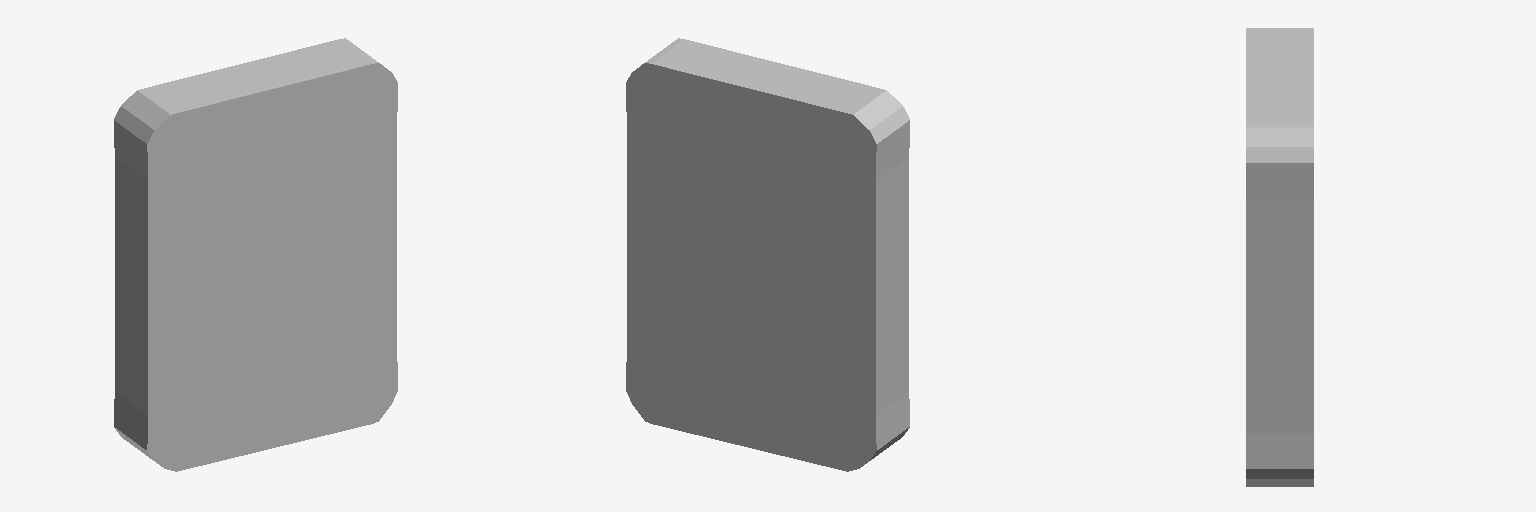
Rendered from weight_left_phy.obj.
3 views of the same model, side by side, from view 1: azimuth 30°, elevation 25°; view 2: azimuth 150°, elevation 25°; view 3: azimuth 270°, elevation 25° (orthographic).
Visible parts, largest first — view 1: Weight_left_phy; view 2: Weight_left_phy; view 3: Weight_left_phy.
Boxes of the visible parts, box(x1,y1,x2,y2) form: Weight_left_phy: box(114, 38, 397, 471); Weight_left_phy: box(626, 38, 909, 471); Weight_left_phy: box(1246, 28, 1313, 486).
Bounding box in the file's own units: 0.0434 × 0.0594 × 0.0101.